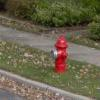Hydrant: (37, 26, 82, 75)
